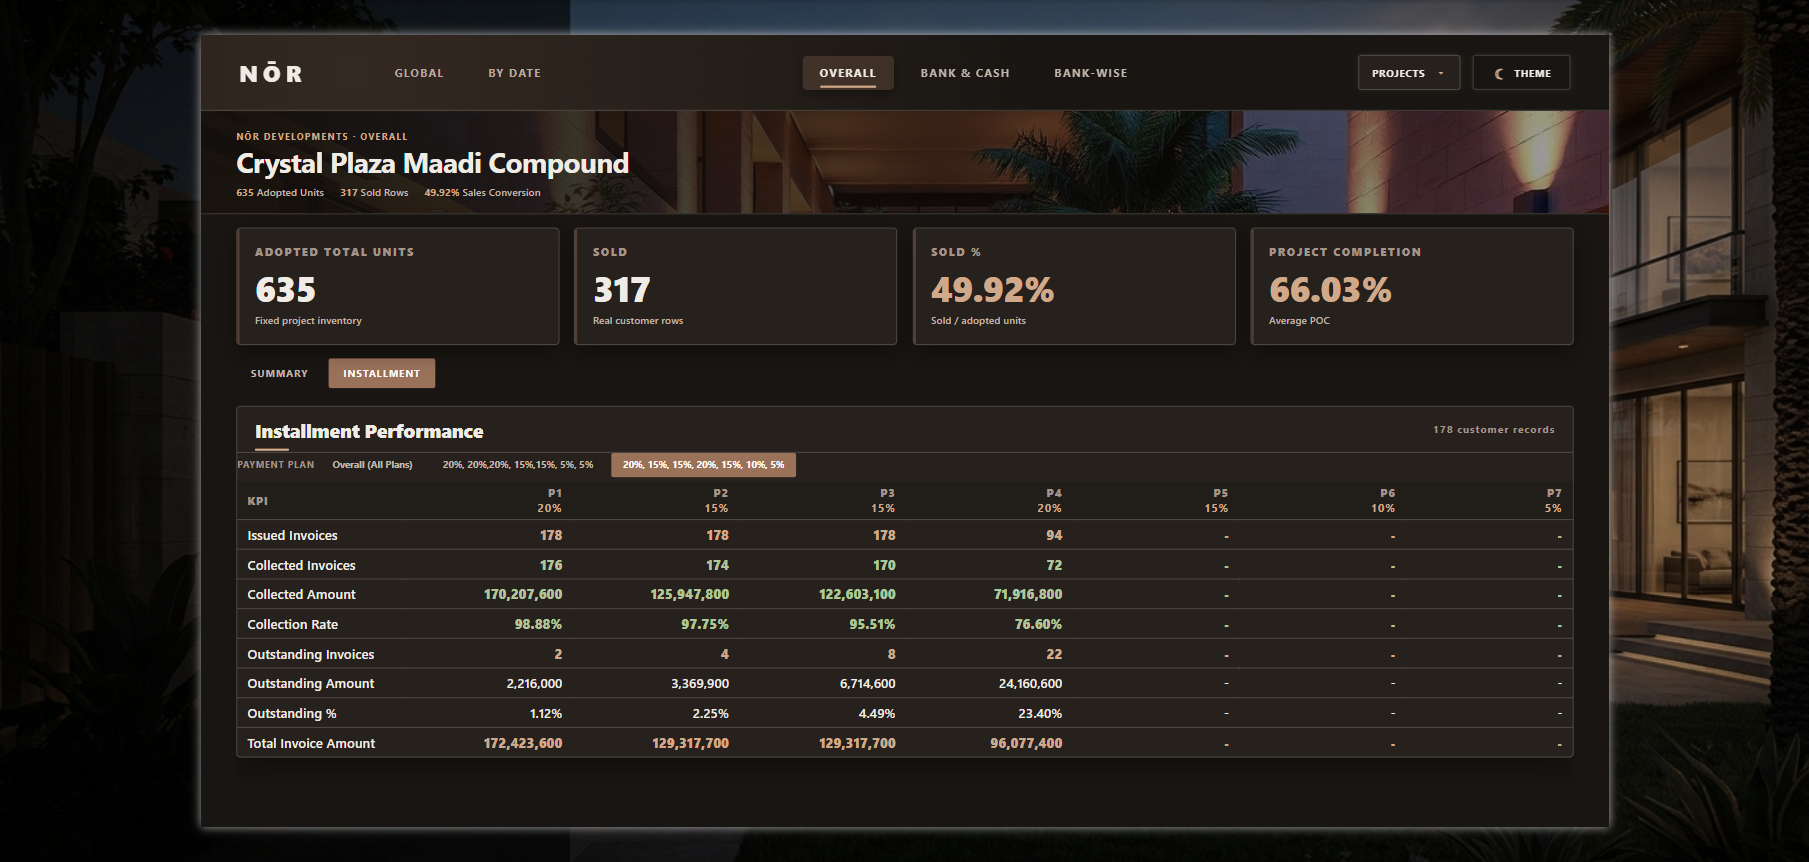

The page's visual inventory and layout, read from the dashboard file:
{"tool":"powerbi","page":{"name":"Crystal Plaza Maadi","canvas":[1280,720],"ordinal":3},"visuals":[{"type":"htmlContent443BE3AD55E043BF878BED274D3A6855","fields":{"content":["HTML Visuals.HTML_CrystalPlaza_OnePage"]},"box":[0,0,1280,720],"z":0}]}

Visuals, with their boxes on the page's 1280x720 design canvas (x1, y1, x2, y2). These are canvas units, not pixel positions in the 1809x862 screenshot, which may show the page scaled, cropped or inside an application window:
htmlContent443BE3AD55E043BF878BED274D3A6855 - HTML Visuals.HTML_CrystalPlaza_OnePage: box=[0, 0, 1280, 720]
